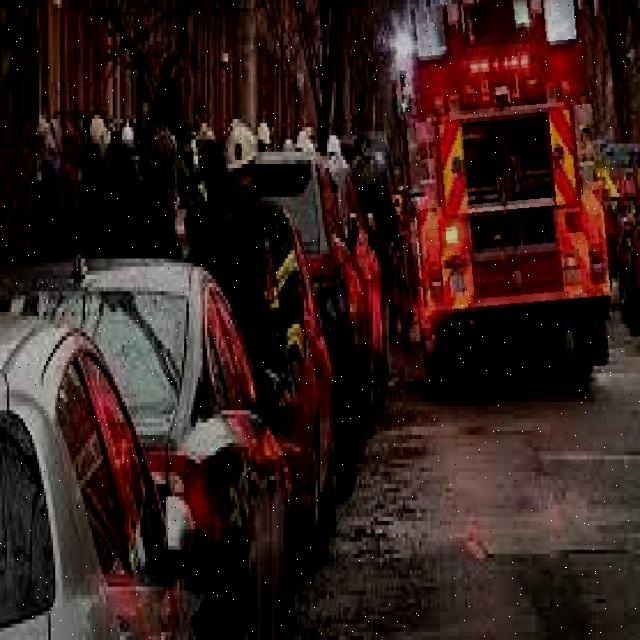pompier: (382, 0, 618, 377)
